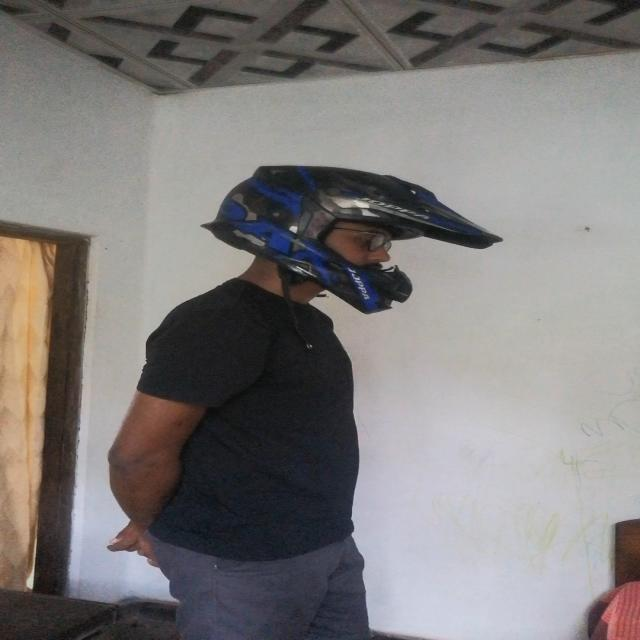Helmet_Wearer: (205, 156, 486, 338)
